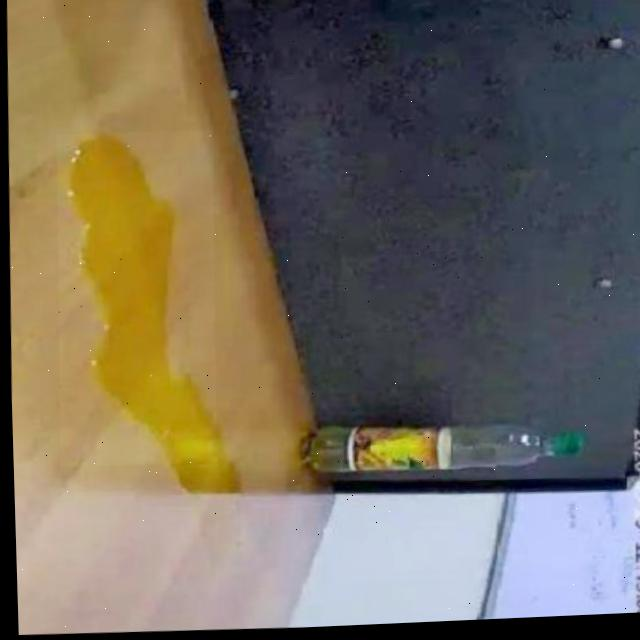spillage: (54, 134, 212, 464)
